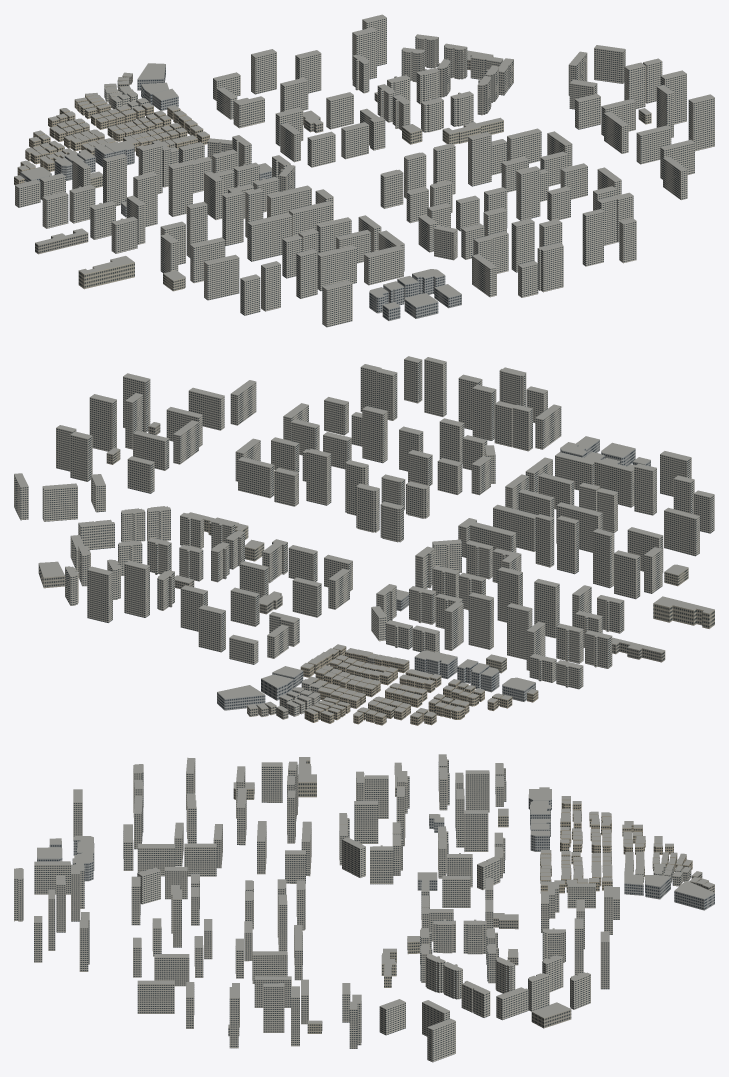
The picture shows the model from 3 angles, top to bottom: view 1: azimuth 30°, elevation 25°; view 2: azimuth 150°, elevation 25°; view 3: azimuth 270°, elevation 25°; orthographic projection. The views are drawn at different scales.
Parts seen in each view (by area): view 1: ctx-apartments, ctx-roof, ctx-house, ctx-commercial, ctx-school, ctx-other; view 2: ctx-apartments, ctx-roof, ctx-house, ctx-commercial, ctx-school, ctx-other; view 3: ctx-apartments, ctx-roof, ctx-house, ctx-commercial, ctx-school, ctx-other.
Boxes of the visible parts, x1,y1,x2,y2 form: ctx-apartments: [15, 18, 714, 327]; ctx-roof: [14, 14, 714, 308]; ctx-house: [14, 94, 209, 184]; ctx-commercial: [20, 64, 461, 320]; ctx-school: [78, 110, 651, 291]; ctx-other: [35, 55, 493, 254]; ctx-apartments: [14, 359, 714, 716]; ctx-roof: [14, 356, 714, 717]; ctx-house: [300, 646, 538, 725]; ctx-commercial: [217, 440, 650, 710]; ctx-school: [106, 449, 714, 673]; ctx-other: [38, 424, 665, 719]; ctx-apartments: [14, 758, 691, 1062]; ctx-roof: [14, 754, 714, 1029]; ctx-house: [540, 799, 692, 893]; ctx-commercial: [37, 798, 714, 910]; ctx-school: [233, 760, 508, 1033]; ctx-other: [228, 765, 714, 1036].
Size of the model in its own units: 976 by 116 by 953.
Materials: 6 (5 with a texture image).
